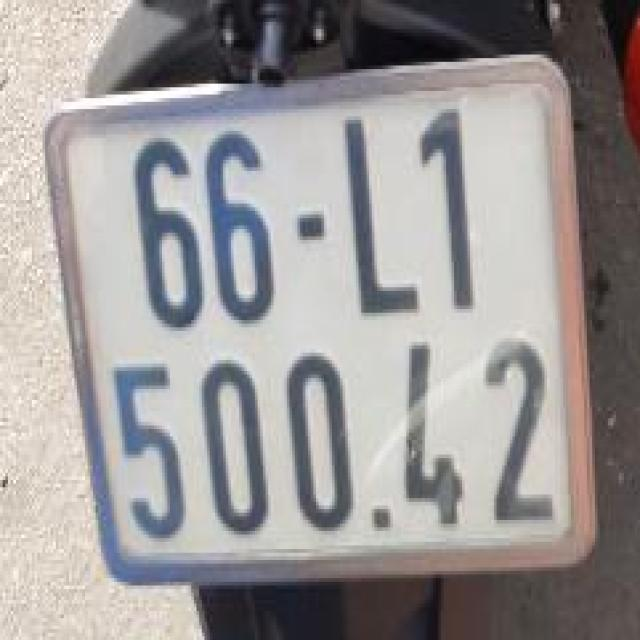0: (195, 349, 275, 546), (280, 340, 357, 536)
1: (422, 102, 478, 316)
2: (484, 331, 562, 531)
4: (394, 338, 477, 542)
5: (102, 353, 187, 545)
6: (200, 123, 283, 334), (121, 126, 206, 329)
L: (331, 95, 418, 320)
